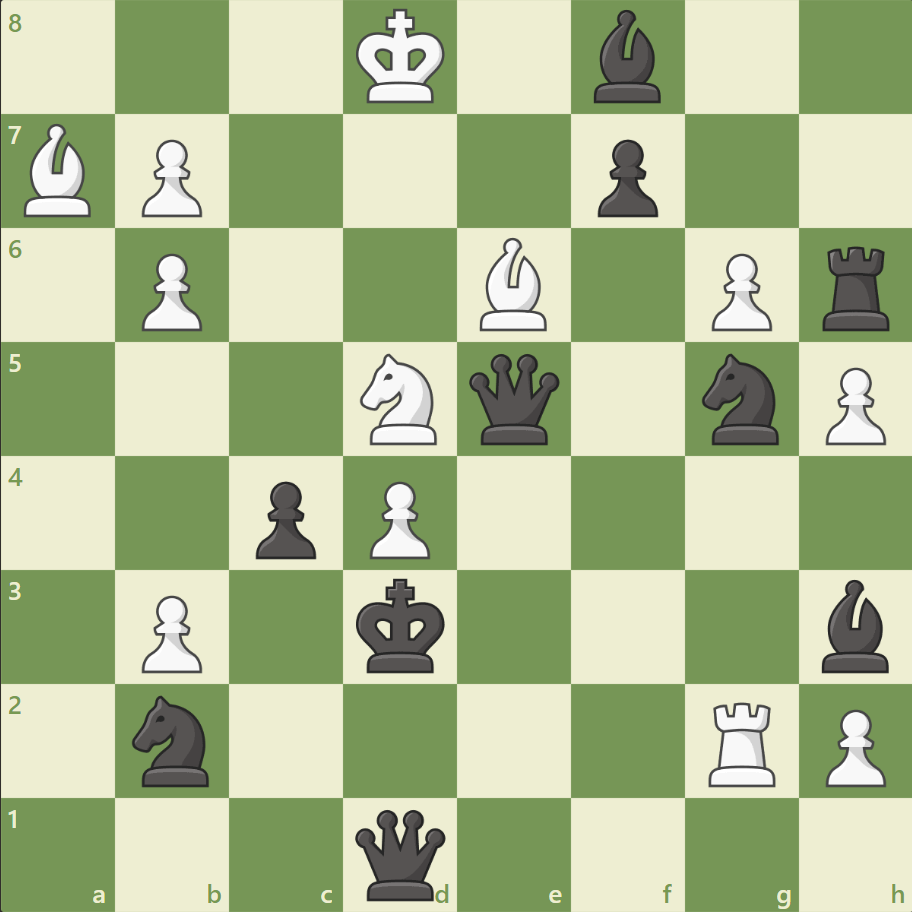B: (471, 233, 555, 336), (17, 120, 101, 222)
K: (351, 4, 451, 112)
N: (351, 348, 449, 450)
P: (133, 132, 208, 223), (133, 246, 208, 337), (701, 246, 776, 337), (133, 586, 208, 677), (815, 359, 889, 450), (361, 473, 435, 564), (815, 700, 889, 791)
R: (700, 693, 783, 790)
b: (585, 6, 669, 109), (812, 574, 896, 676)
k: (351, 571, 451, 679)
n: (124, 688, 222, 791), (692, 348, 789, 450)
p: (247, 473, 322, 564), (588, 132, 662, 223)
q: (464, 349, 563, 449), (351, 804, 450, 903)
r: (814, 239, 897, 336)
